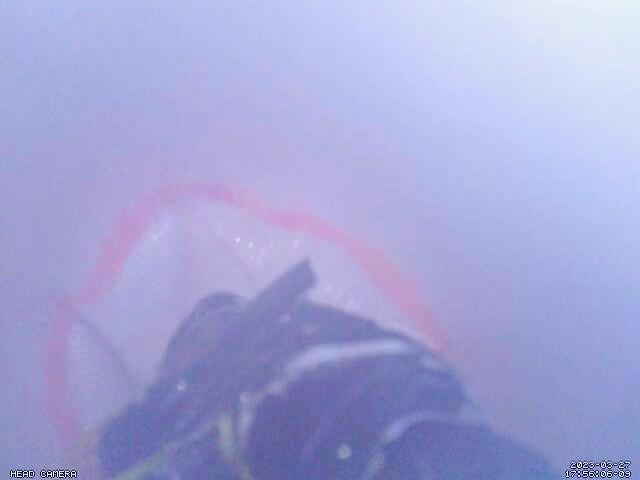head: (44, 177, 456, 480)
